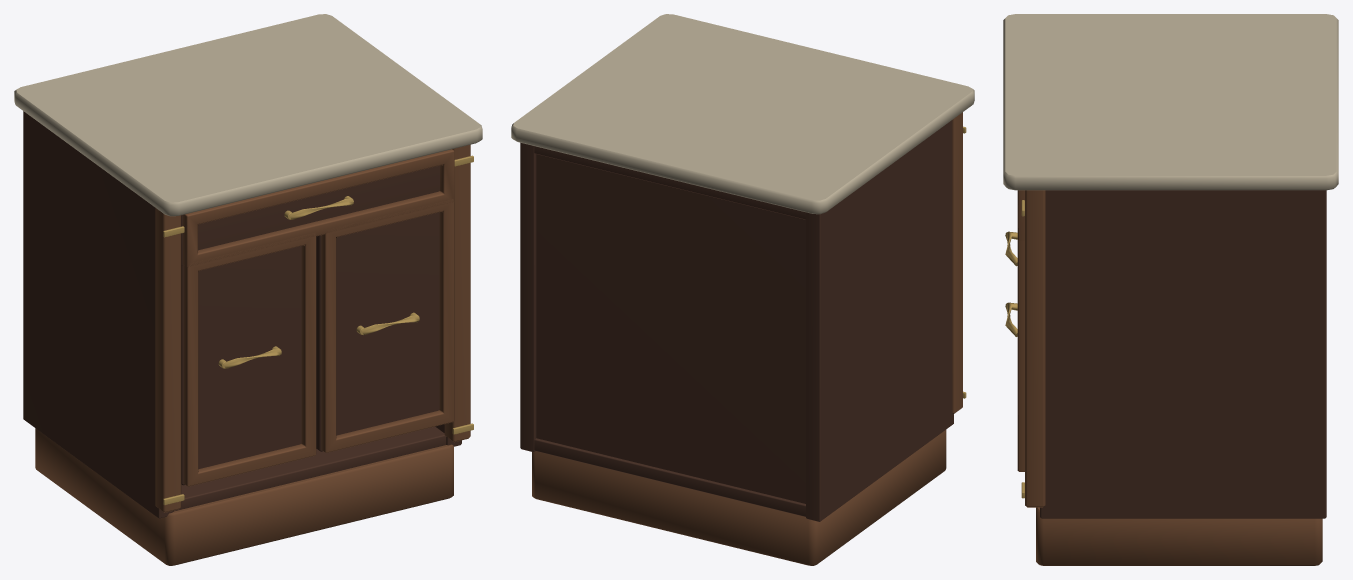
File: rpg-mansion-kitchen-cutlery-cupboard-750-01.glb
The picture shows the model from 3 angles, left to right: view 1: azimuth 30°, elevation 25°; view 2: azimuth 150°, elevation 25°; view 3: azimuth 270°, elevation 25°; orthographic projection. The views are drawn at different scales.
Parts seen in each view (by area): view 1: rpg-mansion-kitchen-cutlery-cupboard-750-01; view 2: rpg-mansion-kitchen-cutlery-cupboard-750-01; view 3: rpg-mansion-kitchen-cutlery-cupboard-750-01.
Part boxes in pixels (x1=…): rpg-mansion-kitchen-cutlery-cupboard-750-01: x1=14, y1=14, x2=482, y2=565; rpg-mansion-kitchen-cutlery-cupboard-750-01: x1=511, y1=14, x2=974, y2=565; rpg-mansion-kitchen-cutlery-cupboard-750-01: x1=1003, y1=14, x2=1338, y2=565.
Size of the model in its own units: 0.75 by 0.85 by 0.65.
